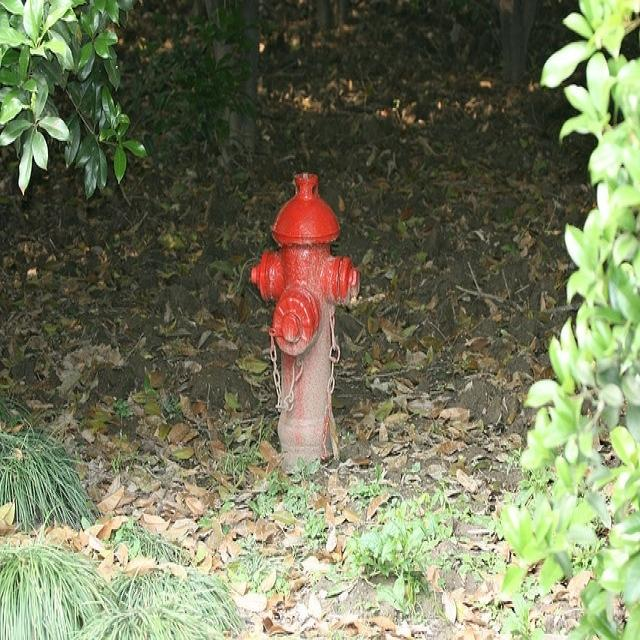fire_hydrant: (210, 145, 397, 546)
